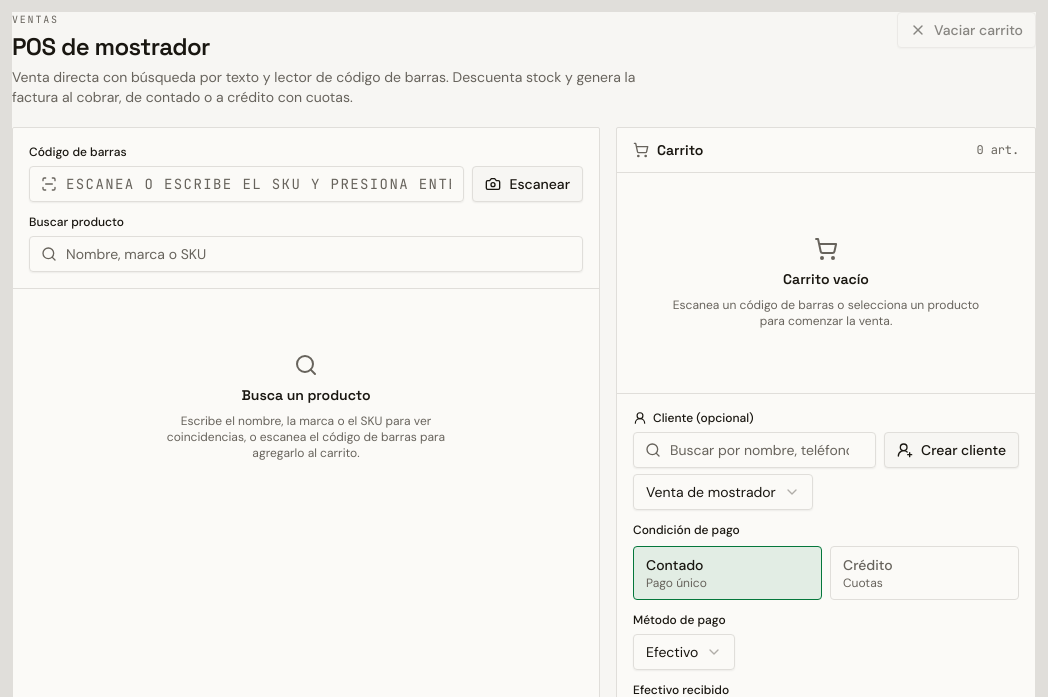
PosPage cart editing (characterization) › lists and adds a searched product to the cart in one step
The width and height of the screenshot is (1048, 697).
In the field with test id "pos.search_input": point(306, 254) [29, 236, 583, 272], type "balata"
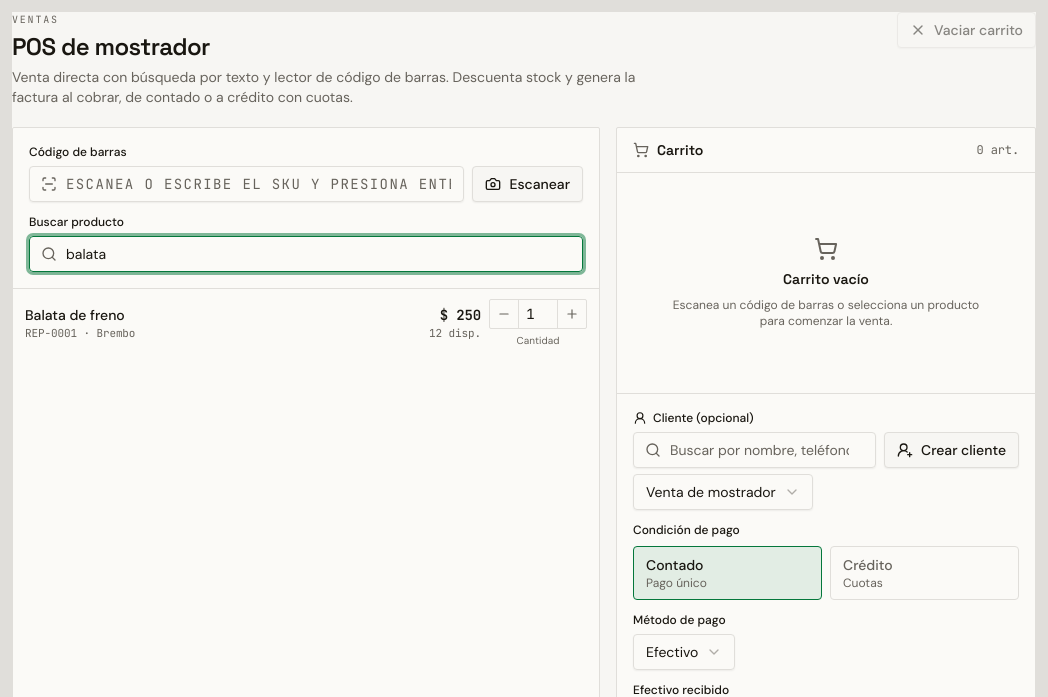
Expected: the button with test id "pos.product_item.1" is shown
Click the button with test id "pos.product_item.1": point(75, 315) [25, 299, 481, 348]
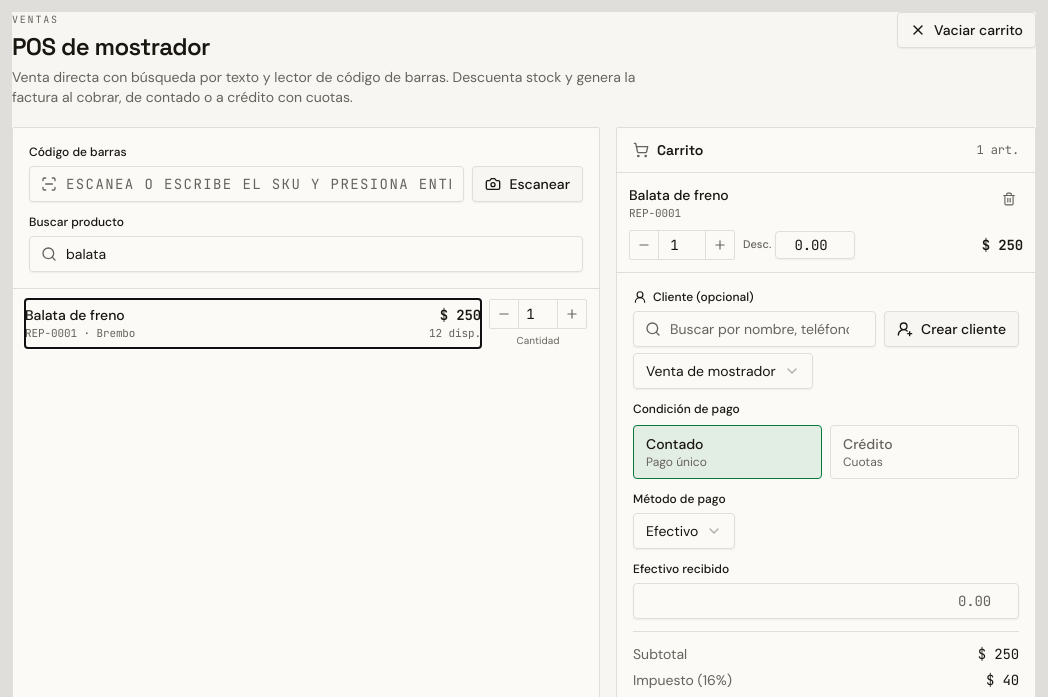
Expected: the text "Balata de freno" below "art." is shown, [629, 186, 729, 204]
